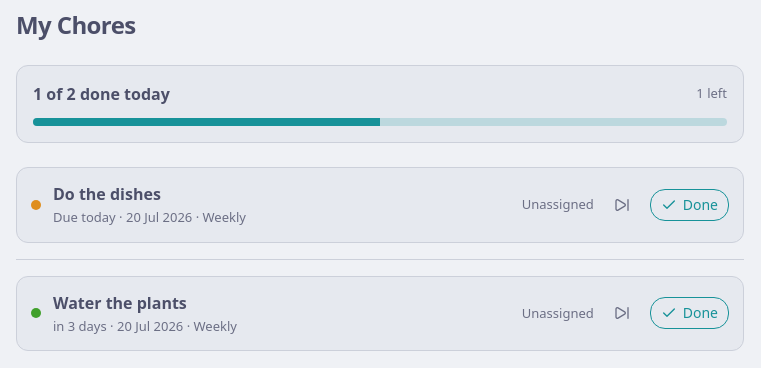
Home › shows the progress returned by the post-completion refetch, not a client guess
Step 1. Click the button "Done" in the row of "in 3 days · 20 Jul 2026 · Weekly" → (689, 313), box [650,297,729,329]
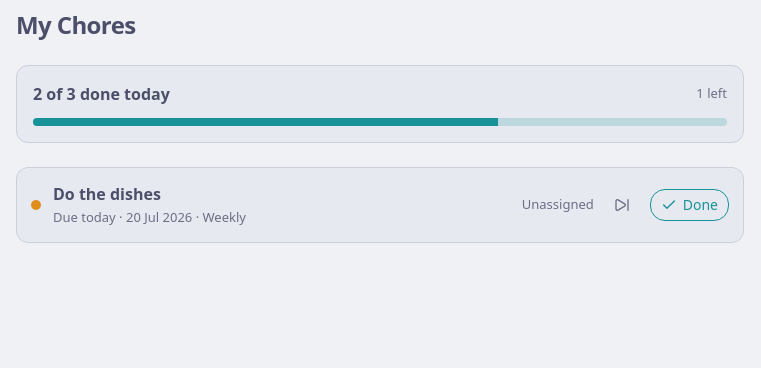
Result: the text "Water the plants" is gone
Result: the text "2 of 3 done today" is shown at [33,82,170,106]
